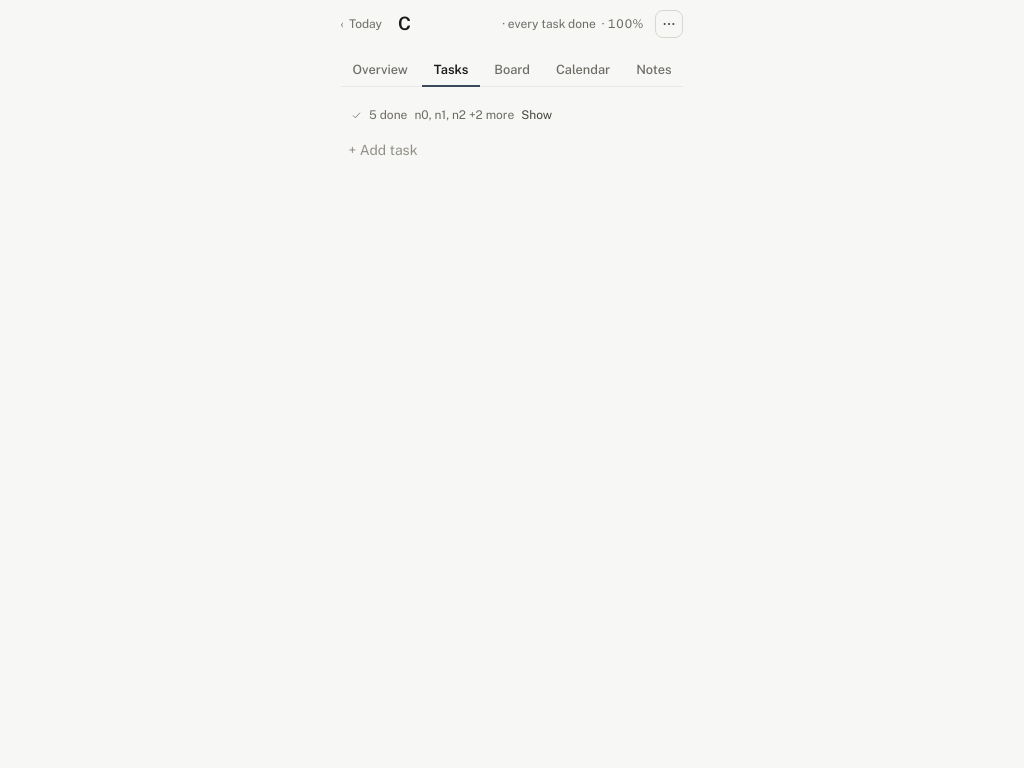
Test: estimate calibration › reports how estimates have compared to logged time
The image size is (1024, 768).
Click the button with aria-label "Goal status and dates" at (573, 24), box [494,10,652,38]
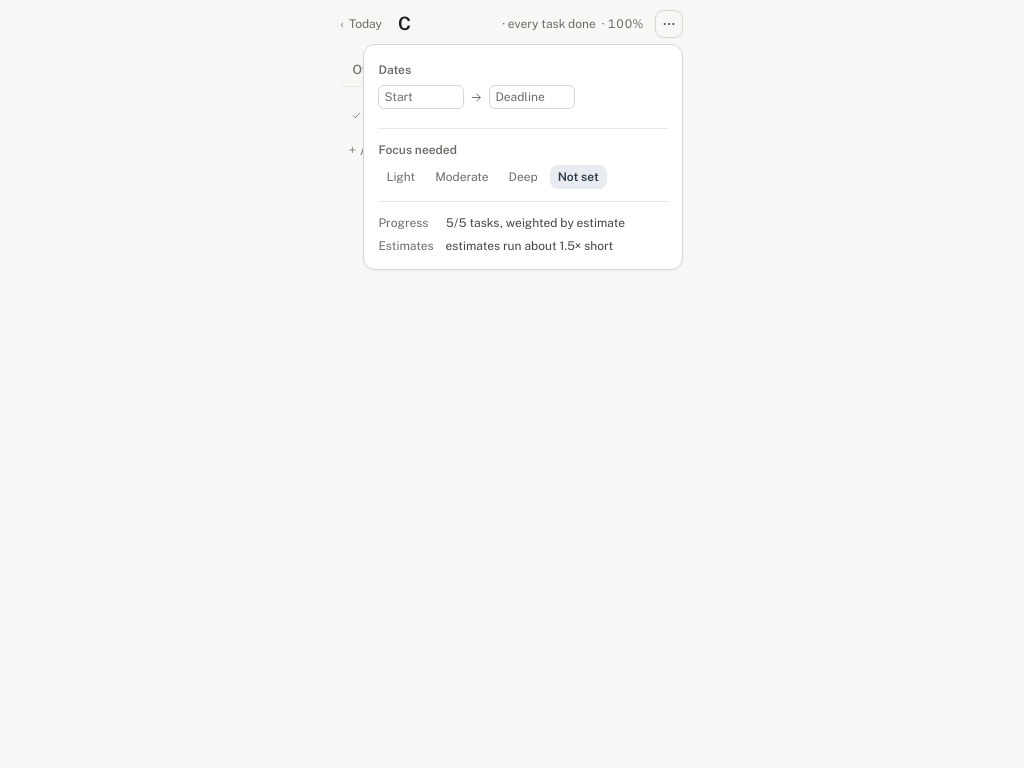
Now the text "estimates run about 1.5× short" is shown, box [446,239,613,253]
